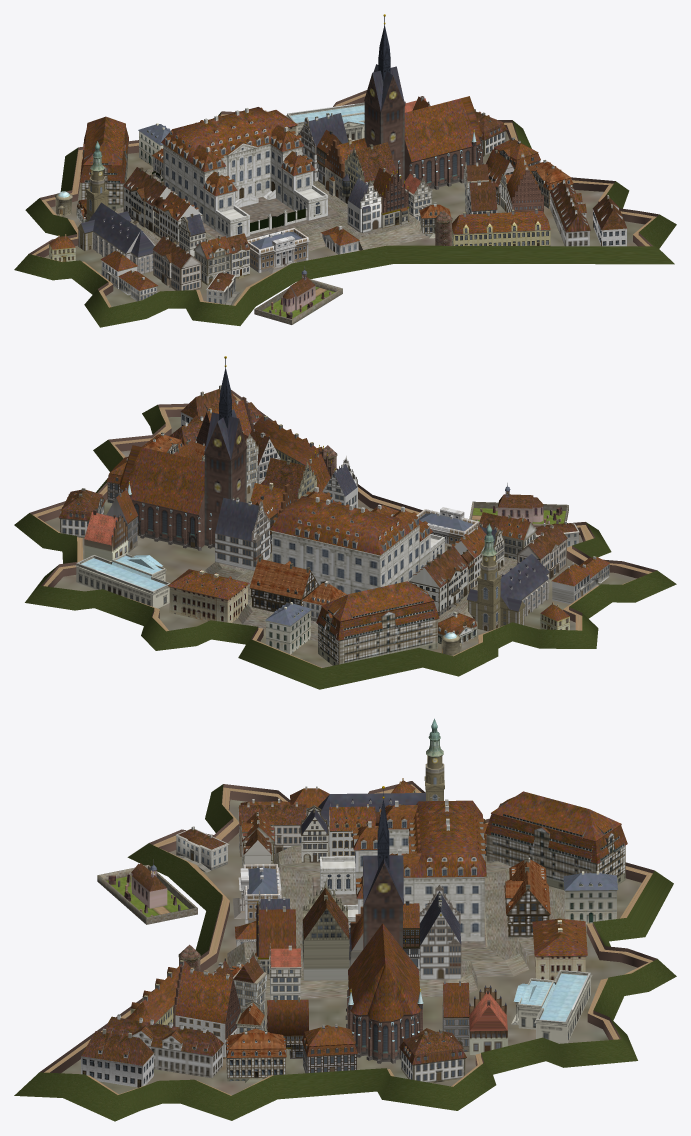
Rendered from city.glb.
3 renders of one model, top to bottom at view 1: azimuth 30°, elevation 25°; view 2: azimuth 150°, elevation 25°; view 3: azimuth 270°, elevation 25°, orthographic. The views are drawn at different scales.
Visible parts, largest first — view 1: Object_6, Object_4, Object_2, Object_5, Object_7, Object_3; view 2: Object_6, Object_2, Object_7, Object_4, Object_3, Object_5; view 3: Object_6, Object_2, Object_7, Object_3, Object_4, Object_5.
Part boxes in pixels (x1=…): Object_6: x1=14, y1=90, x2=676, y2=327; Object_4: x1=161, y1=107, x2=409, y2=239; Object_2: x1=77, y1=108, x2=626, y2=300; Object_5: x1=364, y1=14, x2=483, y2=189; Object_7: x1=55, y1=97, x2=509, y2=324; Object_3: x1=77, y1=102, x2=573, y2=273; Object_6: x1=14, y1=385, x2=676, y2=689; Object_2: x1=58, y1=386, x2=595, y2=665; Object_7: x1=84, y1=441, x2=568, y2=655; Object_4: x1=269, y1=445, x2=444, y2=594; Object_3: x1=59, y1=431, x2=549, y2=629; Object_5: x1=119, y1=356, x2=247, y2=550; Object_6: x1=14, y1=778, x2=676, y2=1121; Object_2: x1=102, y1=776, x2=627, y2=1085; Object_7: x1=97, y1=810, x2=587, y2=1063; Object_3: x1=226, y1=718, x2=592, y2=1083; Object_4: x1=256, y1=800, x2=486, y2=957; Object_5: x1=345, y1=786, x2=423, y2=1063.
Bounding box in the file's own units: 0.2734 × 0.085 × 0.2301.
1 material, 1 textured.
